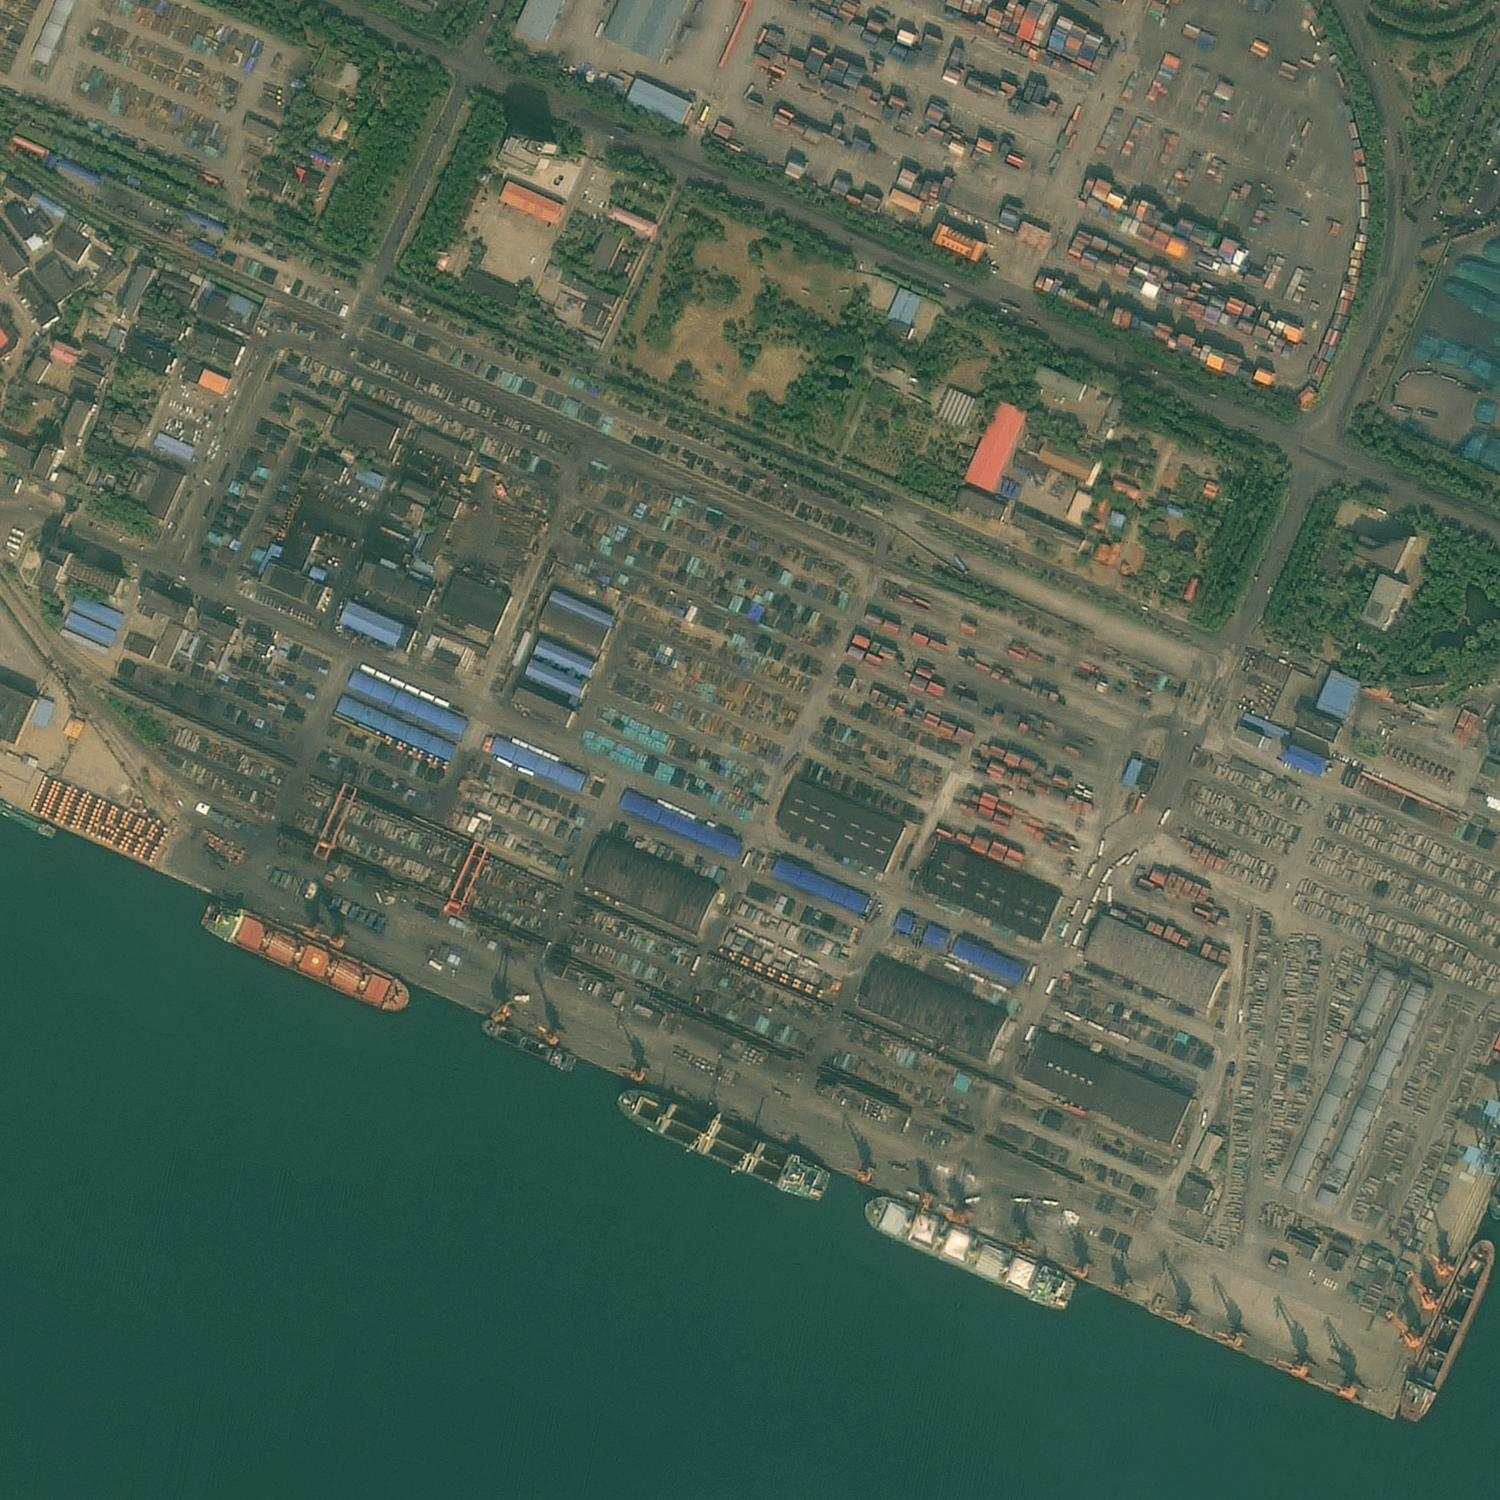A9: (169, 51, 408, 267), (185, 283, 421, 483)
